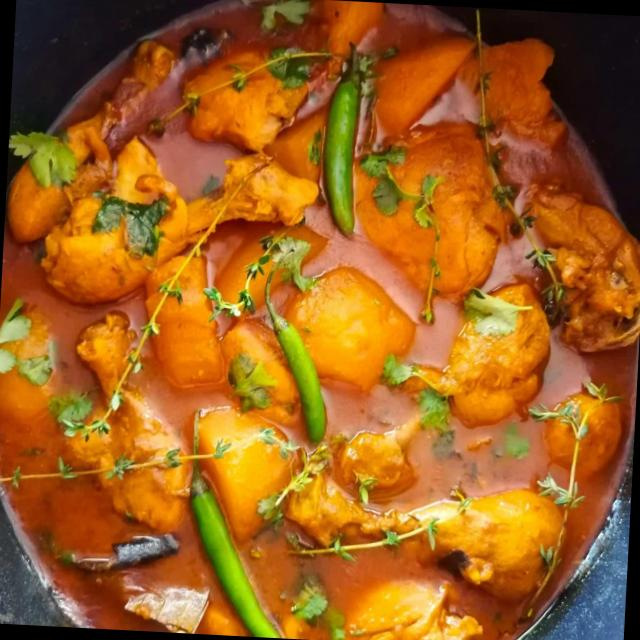chicken: (12, 2, 633, 640)
